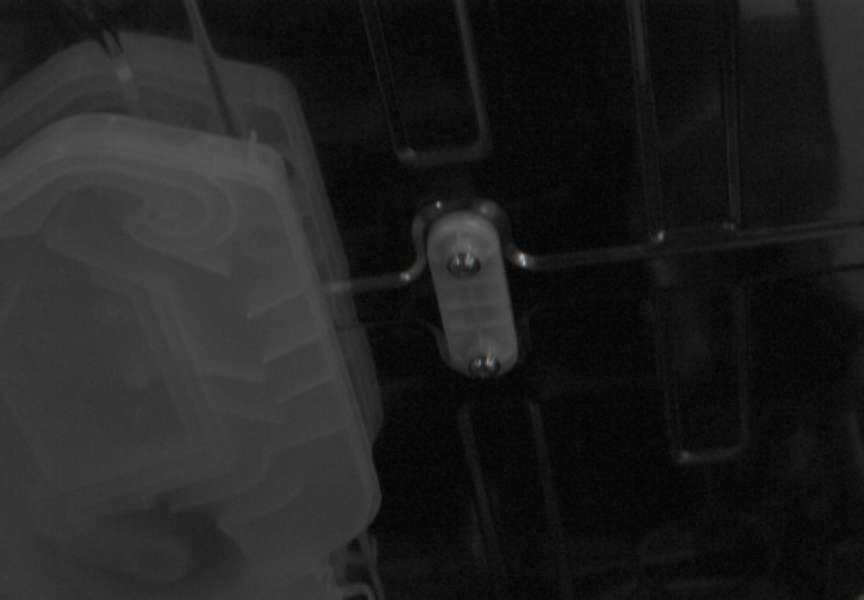screw: (447, 252, 481, 278), (468, 354, 501, 379)
